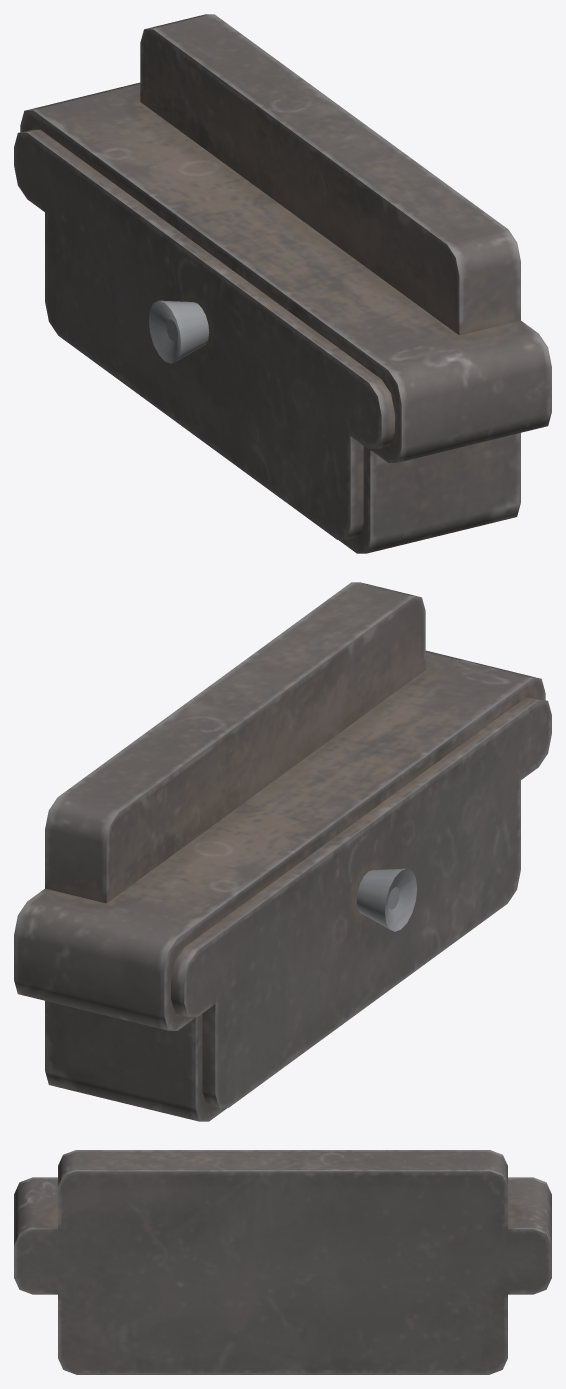
File: ElectricalOutlet_A.fbx
3 views of the same model, one above another, from view 1: azimuth 30°, elevation 25°; view 2: azimuth 150°, elevation 25°; view 3: azimuth 270°, elevation 25° (orthographic). The views are drawn at different scales.
Visible parts, largest first — view 1: EletricalOutlet_A; view 2: EletricalOutlet_A; view 3: EletricalOutlet_A.
Boxes of the visible parts, box(x1,y1,x2,y2) form: EletricalOutlet_A: box(14, 14, 551, 553); EletricalOutlet_A: box(14, 582, 551, 1121); EletricalOutlet_A: box(14, 1150, 551, 1374).
Size of the model in its own units: 6.32 by 8.86 by 21.23.
